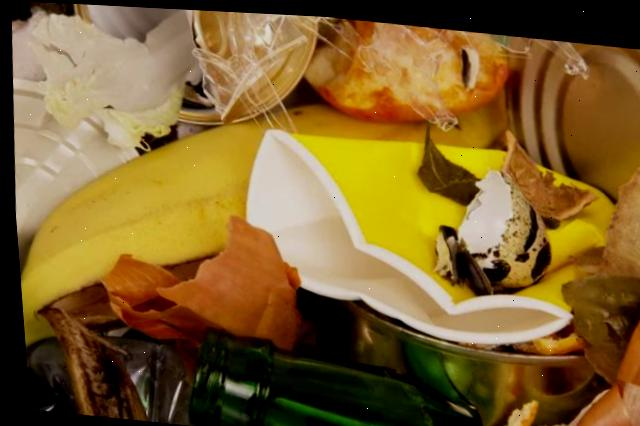Garbage: (11, 0, 640, 426)
Glass_bottle: (183, 327, 473, 426)
Metal: (312, 294, 602, 426), (11, 79, 136, 269), (505, 36, 640, 193)
contaminated_waste: (244, 129, 610, 340), (178, 8, 320, 128), (76, 3, 173, 35)
